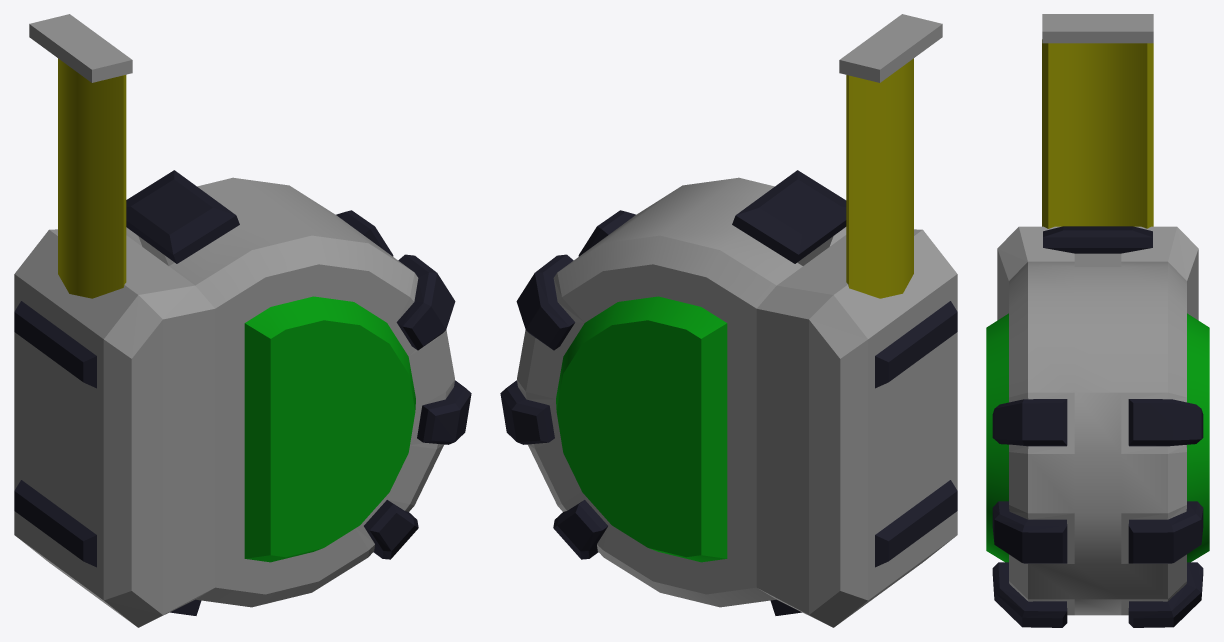
File: DistanceAchievement2.FBX
3 views of the same model, side by side, from view 1: azimuth 30°, elevation 25°; view 2: azimuth 150°, elevation 25°; view 3: azimuth 270°, elevation 25° (orthographic). The views are drawn at different scales.
Visible parts, largest first — view 1: DistanceTier2; view 2: DistanceTier2; view 3: DistanceTier2.
Boxes of the visible parts, x1,y1,x2,y2 form: DistanceTier2: (14, 14, 471, 627); DistanceTier2: (500, 14, 957, 627); DistanceTier2: (986, 14, 1209, 627).
Size of the model in its own units: 34.28 by 51.31 by 19.65.
